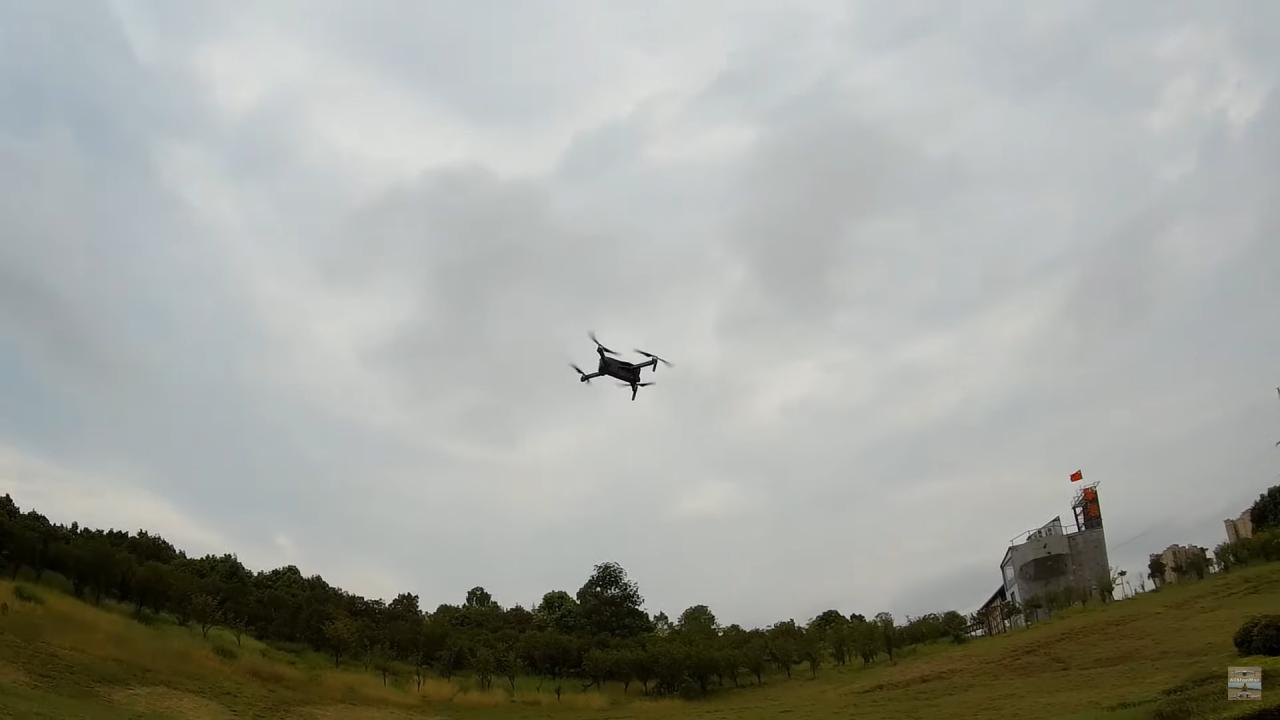Drone: (559, 320, 683, 410)
